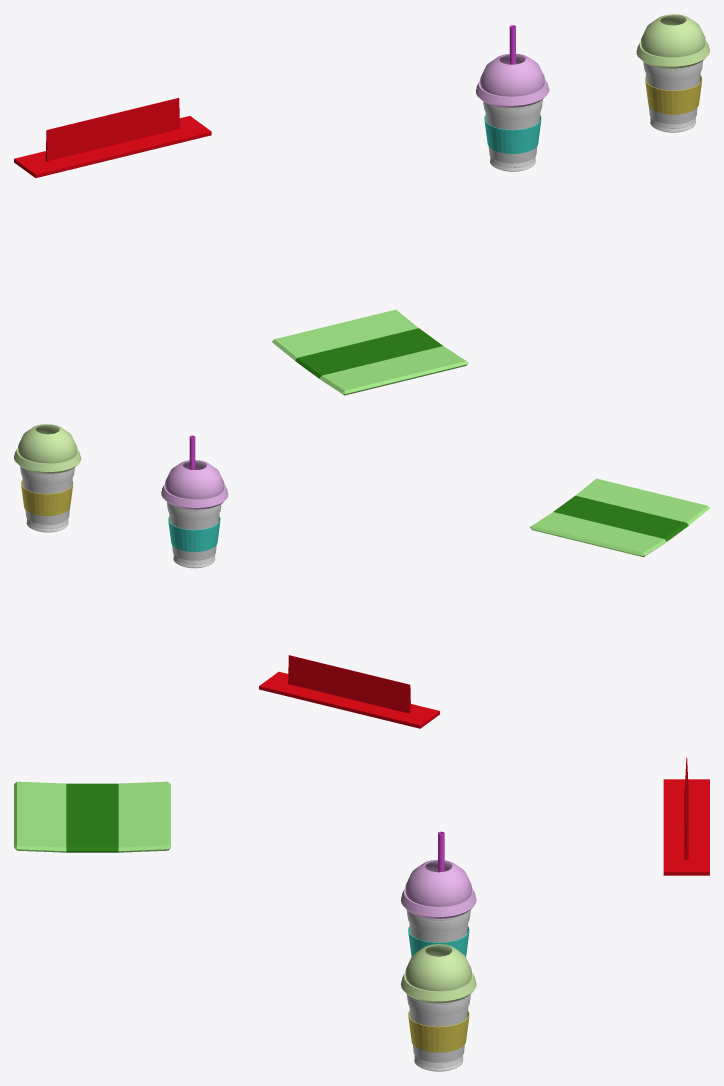
The model's file is edits_cup.fbx.
3 views of the same model, one above another, from view 1: azimuth 30°, elevation 25°; view 2: azimuth 150°, elevation 25°; view 3: azimuth 270°, elevation 25° (orthographic). The views are drawn at different scales.
Visible parts, largest first — view 1: Cube.002, fail, cover_pink.001, cover_pink, pink_cup.001, pink_cup, slevee_blue.001, slevee_blue; view 2: Cube.002, fail, cover_pink.001, cover_pink, pink_cup.001, pink_cup, slevee_blue, slevee_blue.001; view 3: Cube.002, fail, cover_pink.001, cover_pink, pink_cup.001, slevee_blue.001, pink_cup, slevee_blue.
Part boxes in pixels (bbox=[...]): Cube.002: bbox=[272, 309, 468, 395]; fail: bbox=[14, 98, 211, 178]; cover_pink.001: bbox=[636, 14, 709, 68]; cover_pink: bbox=[475, 53, 549, 107]; pink_cup.001: bbox=[643, 61, 702, 132]; pink_cup: bbox=[483, 99, 542, 171]; slevee_blue.001: bbox=[645, 75, 702, 114]; slevee_blue: bbox=[484, 115, 541, 153]; Cube.002: bbox=[530, 478, 709, 557]; fail: bbox=[259, 655, 439, 728]; cover_pink.001: bbox=[14, 424, 81, 473]; cover_pink: bbox=[161, 460, 228, 509]; pink_cup.001: bbox=[20, 466, 74, 532]; pink_cup: bbox=[167, 502, 221, 568]; slevee_blue: bbox=[168, 516, 220, 551]; slevee_blue.001: bbox=[21, 480, 73, 515]; Cube.002: bbox=[14, 781, 170, 852]; fail: bbox=[663, 757, 709, 875]; cover_pink.001: bbox=[401, 944, 476, 1003]; cover_pink: bbox=[401, 859, 476, 918]; pink_cup.001: bbox=[406, 994, 470, 1071]; slevee_blue.001: bbox=[408, 1010, 469, 1052]; pink_cup: bbox=[406, 909, 470, 942]; slevee_blue: bbox=[408, 926, 469, 956].
Size of the model in its own units: 1151 by 269 by 1141.
